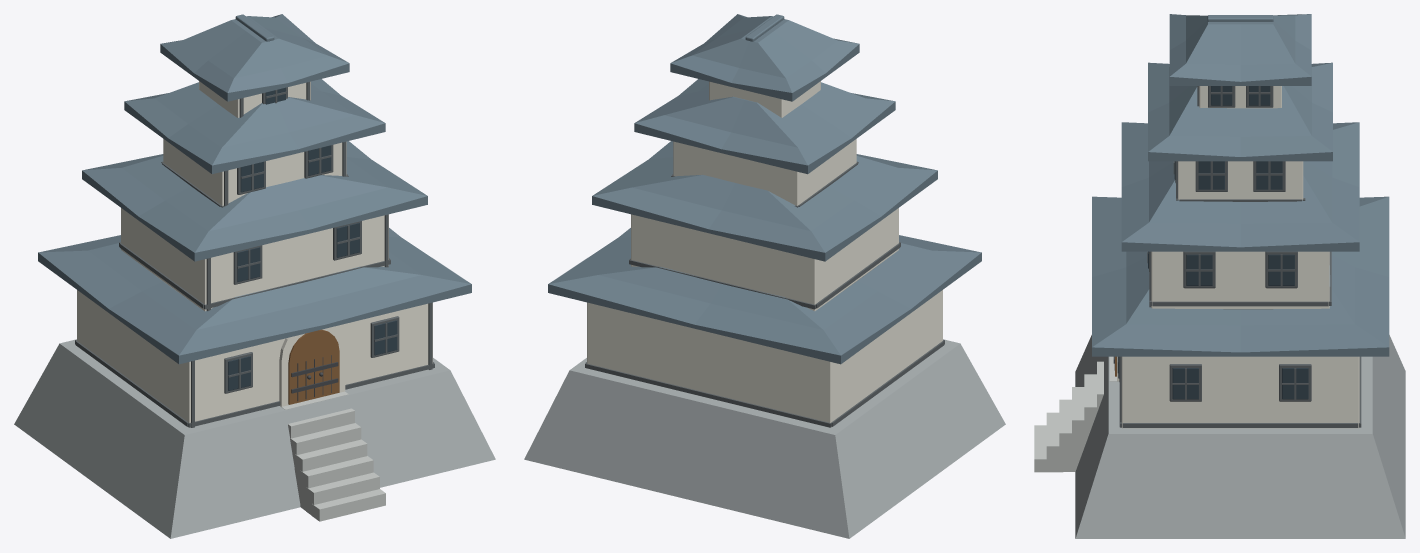
Rendered from castle_white_tiered.glb.
3 renders of one model, left to right at view 1: azimuth 30°, elevation 25°; view 2: azimuth 150°, elevation 25°; view 3: azimuth 270°, elevation 25°, orthographic. The views are drawn at different scales.
Visible parts, largest first — view 1: White castle battered stone podium, White castle flared roof tier, White castle flared roof tier.001, White castle tier walls, White castle flared roof tier.002, White castle flared roof tier.003, White castle tier walls.001, White castle tier walls.002, White castle main entrance closed wooden gate, White castle approach stair.002, White castle approach stair.003, White castle approach stair.001 (+11 smaller); view 2: White castle battered stone podium, White castle flared roof tier, White castle tier walls, White castle flared roof tier.001, White castle flared roof tier.002, White castle tier walls.001, White castle flared roof tier.003, White castle tier walls.002, White castle tier walls.003, White castle horizontal timber band.001, White castle side timber band; view 3: White castle battered stone podium, White castle flared roof tier, White castle flared roof tier.001, White castle tier walls, White castle flared roof tier.002, White castle flared roof tier.003, White castle tier walls.001, White castle tier walls.002, White castle side timber band.001, White castle side timber band.003, White castle approach stair.002, White castle approach stair.003 (+15 smaller).
Part boxes in pixels (x1,y1,x2,y2): White castle battered stone podium: (14,339,495,538); White castle flared roof tier: (38,228,471,364); White castle flared roof tier.001: (82,141,427,261); White castle tier walls: (77,290,432,422); White castle flared roof tier.002: (124,79,385,174); White castle flared roof tier.003: (160,14,349,101); White castle tier walls.001: (121,208,388,311); White castle tier walls.002: (163,139,346,205); White castle main entrance closed wooden gate: (288,329,339,404); White castle approach stair.002: (300,456,373,510); White castle approach stair.003: (294,439,367,502); White castle approach stair.001: (306,472,379,515); White castle battered stone podium: (524,339,1005,538); White castle flared roof tier: (548,228,981,364); White castle tier walls: (587,290,942,422); White castle flared roof tier.001: (592,141,937,261); White castle flared roof tier.002: (634,79,895,174); White castle tier walls.001: (631,208,898,311); White castle flared roof tier.003: (670,14,859,101); White castle tier walls.002: (673,139,856,205); White castle tier walls.003: (709,81,820,117); White castle horizontal timber band.001: (585,363,831,427); White castle side timber band: (831,341,944,426); White castle battered stone podium: (1075,335,1405,538); White castle flared roof tier: (1092,196,1389,356); White castle flared roof tier.001: (1121,122,1359,251); White castle tier walls: (1121,356,1359,428); White castle flared roof tier.002: (1148,62,1332,161); White castle flared roof tier.003: (1169,14,1311,85); White castle tier walls.001: (1151,251,1329,309); White castle tier walls.002: (1178,161,1303,200); White castle side timber band.001: (1123,423,1358,427); White castle side timber band.003: (1152,301,1328,306); White castle approach stair.002: (1059,399,1075,471); White castle approach stair.003: (1072,387,1088,470).
Bounding box in the file's own units: 12 × 14.65 × 11.25.
